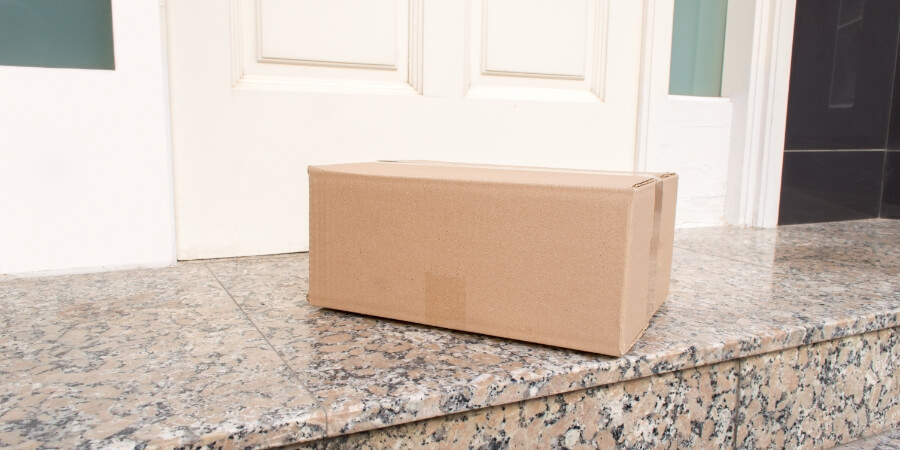package: (306, 155, 687, 365)
